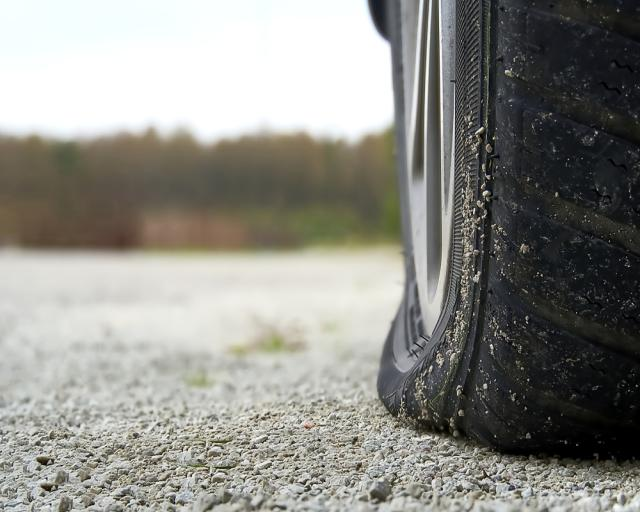tire flat: (378, 0, 640, 462)
